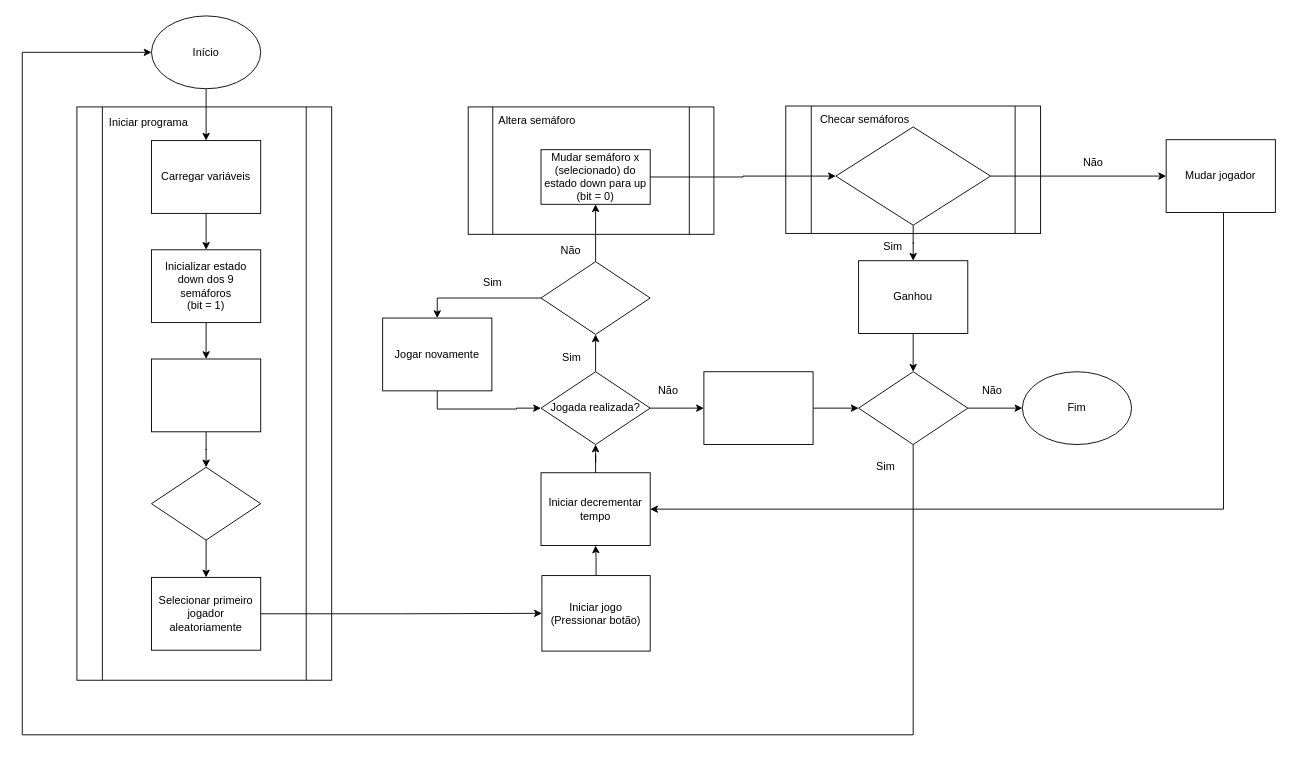
Some shapes in this 1291 by 758 pixel diagram are drawn without their labels. The centre of each missing label's shape, as x and y in pixels:
Inicializar telas: point 206,395
Jogar novamente?: point 913,408
Perdeu: point 758,408
Posições verticais, diagonais ou horizontais preenchidas?: point 913,175
Selecionar símbolo (X ou O): point 206,503
Semáforo x bloqueado ?: point 595,297
